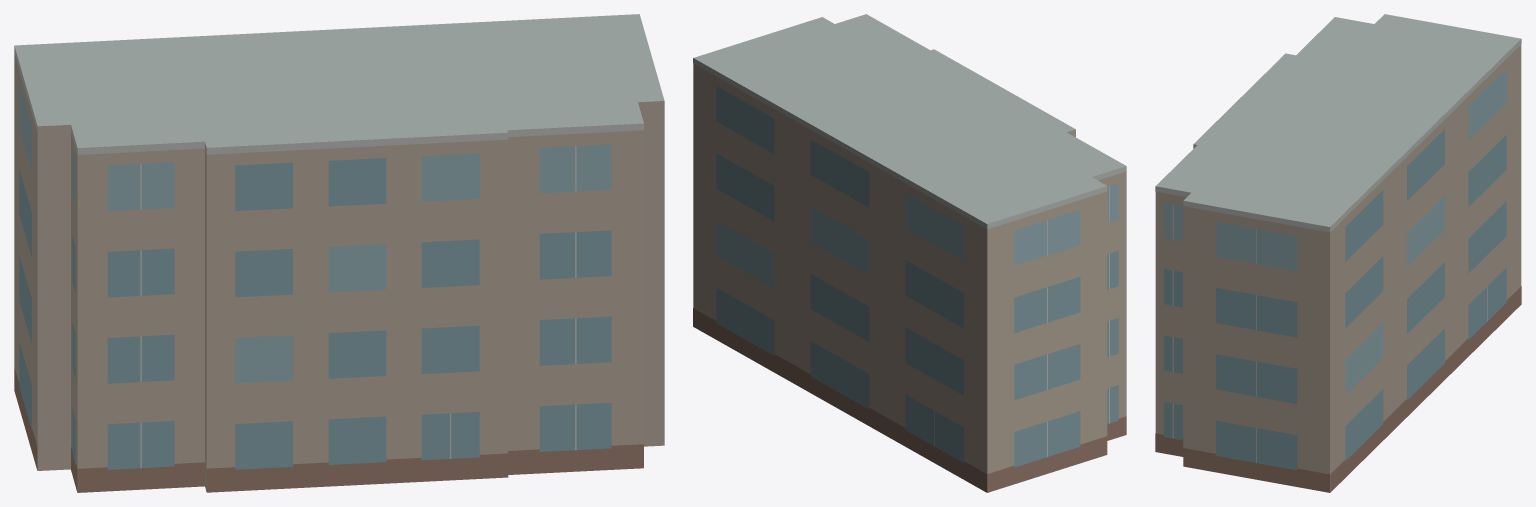
The model's file is survey-upis-32813082.glb.
The picture shows the model from 3 angles, left to right: view 1: azimuth 30°, elevation 25°; view 2: azimuth 150°, elevation 25°; view 3: azimuth 270°, elevation 25°; orthographic projection. The views are drawn at different scales.
Parts seen in each view (by area): view 1: survey-upis-32813082.tmp; view 2: survey-upis-32813082.tmp; view 3: survey-upis-32813082.tmp.
Part boxes in pixels (x1,y1,x2,y2): survey-upis-32813082.tmp: [14, 14, 664, 492]; survey-upis-32813082.tmp: [693, 14, 1126, 492]; survey-upis-32813082.tmp: [1155, 14, 1521, 492].
Bounding box in the file's own units: 21 × 12.2 × 15.24.
